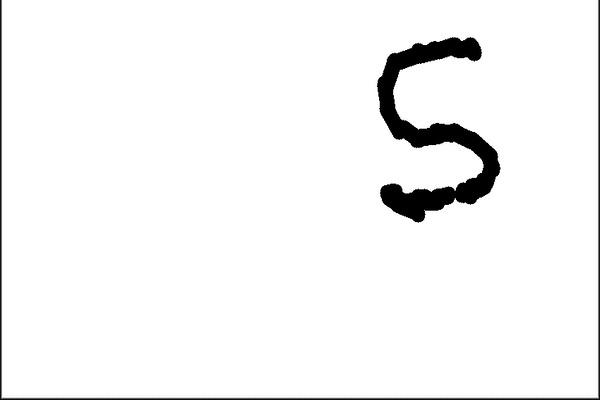S: (364, 24, 502, 227)
